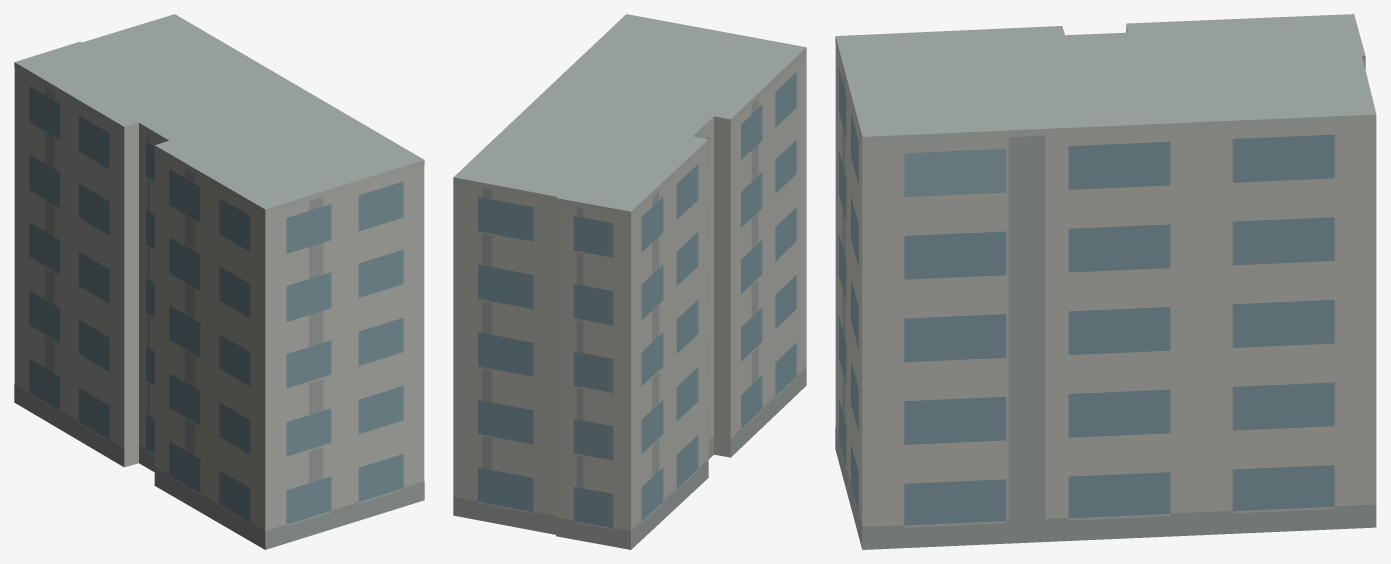
Rendered from survey-upis-32632823.glb.
3 views of the same model, side by side, from view 1: azimuth 30°, elevation 25°; view 2: azimuth 150°, elevation 25°; view 3: azimuth 270°, elevation 25° (orthographic). The views are drawn at different scales.
Visible parts, largest first — view 1: survey-upis-32632823.tmp; view 2: survey-upis-32632823.tmp; view 3: survey-upis-32632823.tmp.
Boxes of the visible parts, left/top/right/bottom form: survey-upis-32632823.tmp: left=14, top=14, right=424, bottom=549; survey-upis-32632823.tmp: left=453, top=14, right=806, bottom=549; survey-upis-32632823.tmp: left=835, top=14, right=1376, bottom=549.
Bounding box in the file's own units: 9.52 × 14.91 × 17.71.
